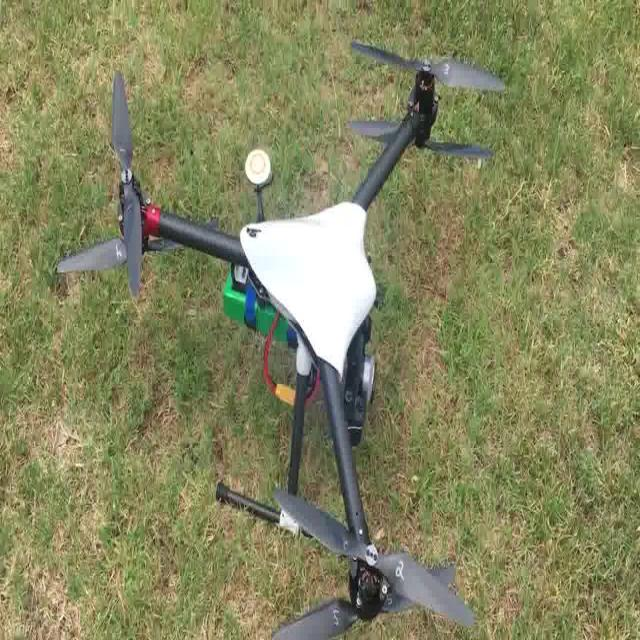drones: (51, 34, 510, 640)
